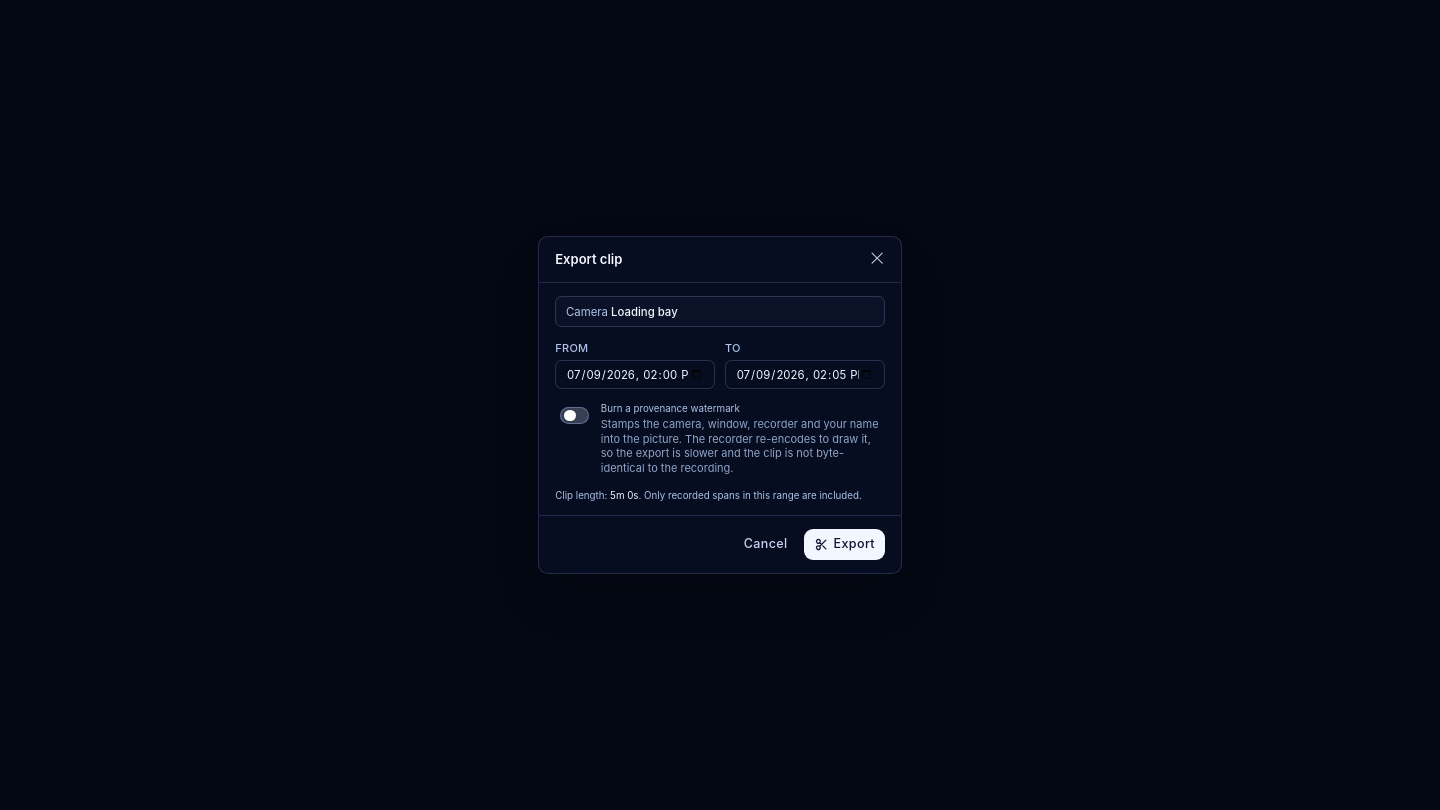
it: the tamper-evidence panel › separates a valid manifest this recorder did not sign from a failure
Click the button "Export": point(844, 544) left=804, top=529, right=885, bottom=560
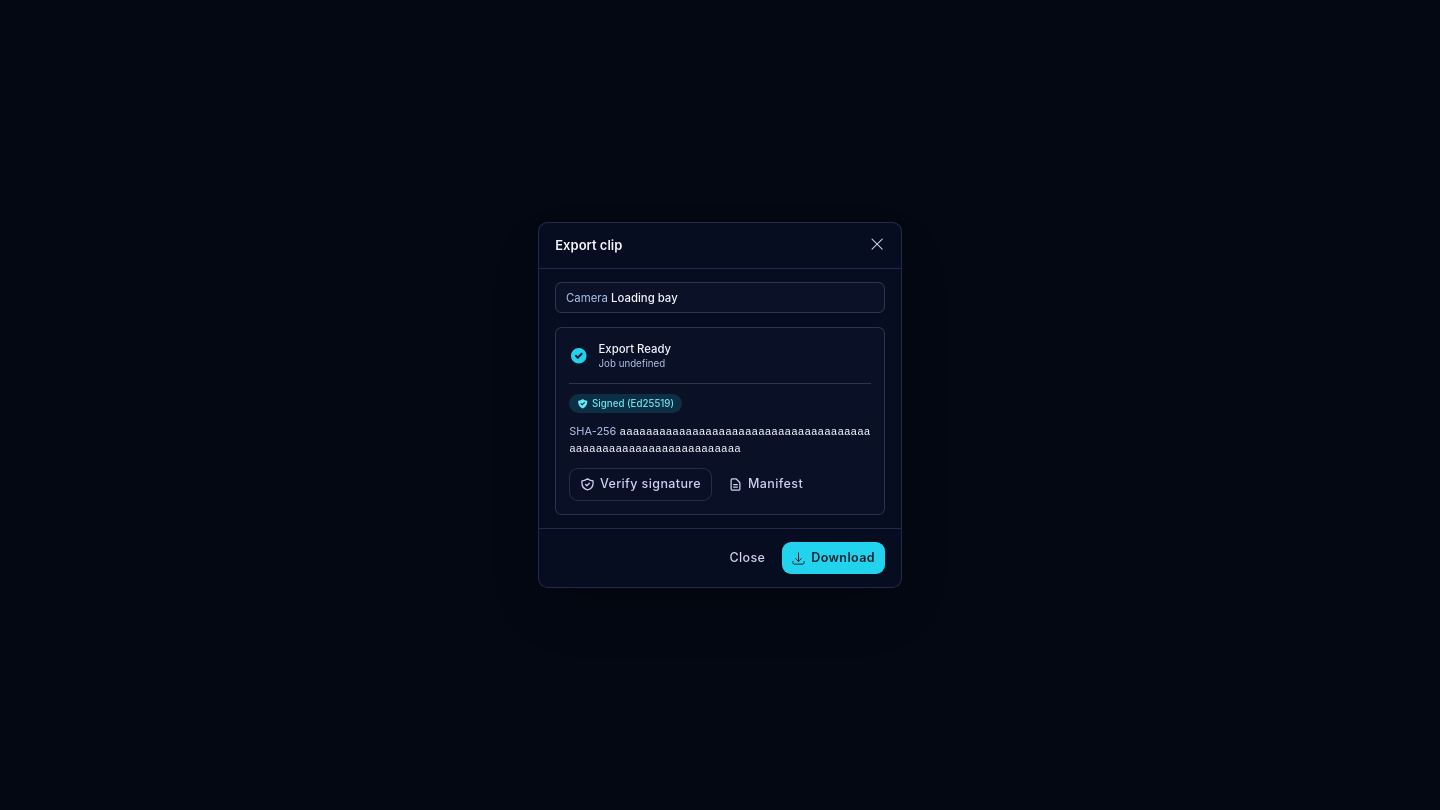
Now the button "Download" is shown, box left=782, top=542, right=885, bottom=574
Click the button "Verify signature": point(641, 484) left=569, top=468, right=712, bottom=501
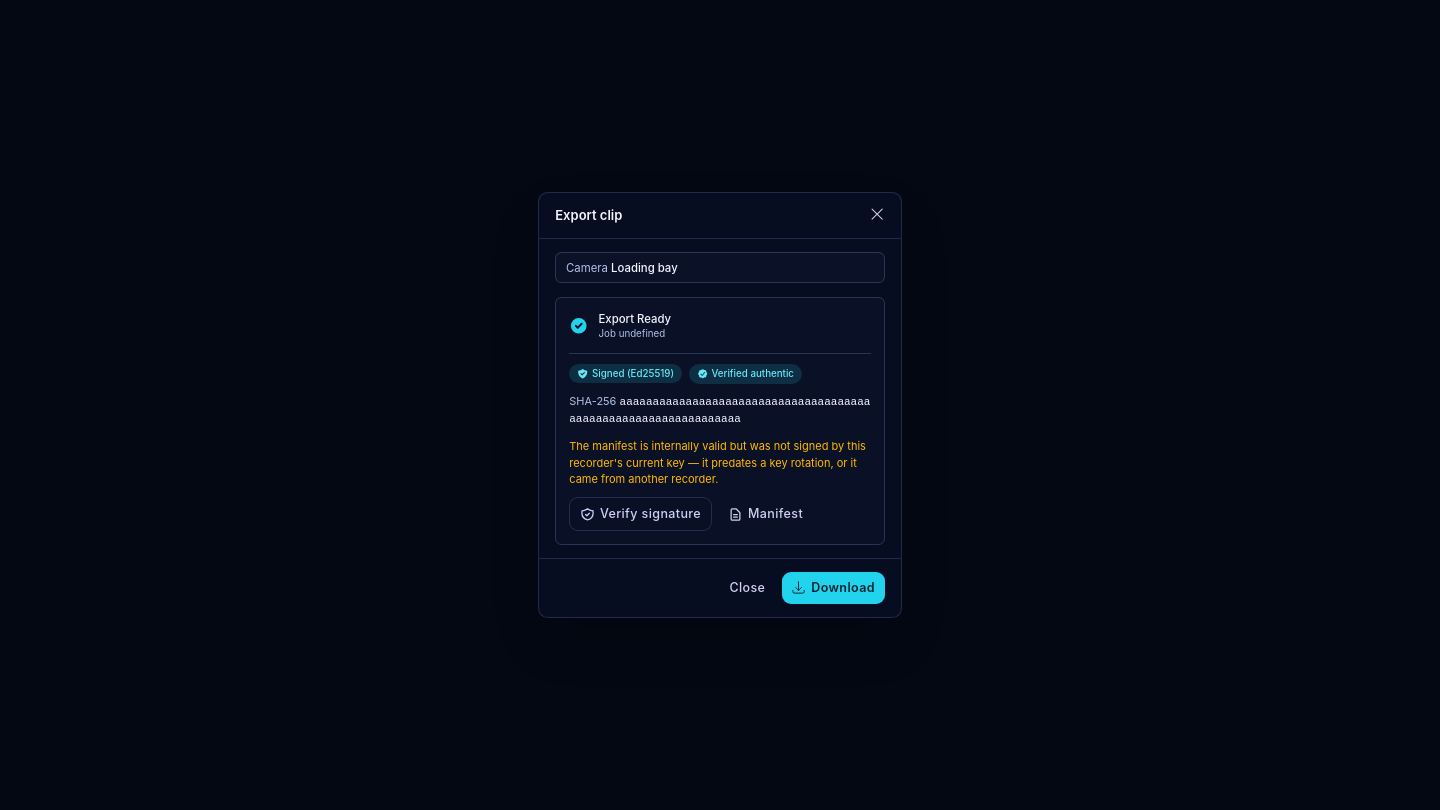
Now the text "Verified authentic" is shown, box left=689, top=364, right=802, bottom=384
Now the text "predates a key rotation, or it came from another recorder" is shown, box left=569, top=439, right=866, bottom=486
